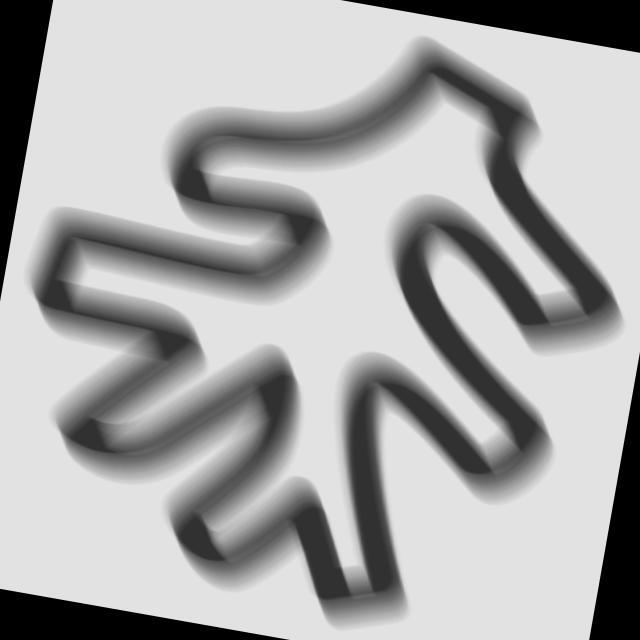coral: (1, 1, 640, 640)
